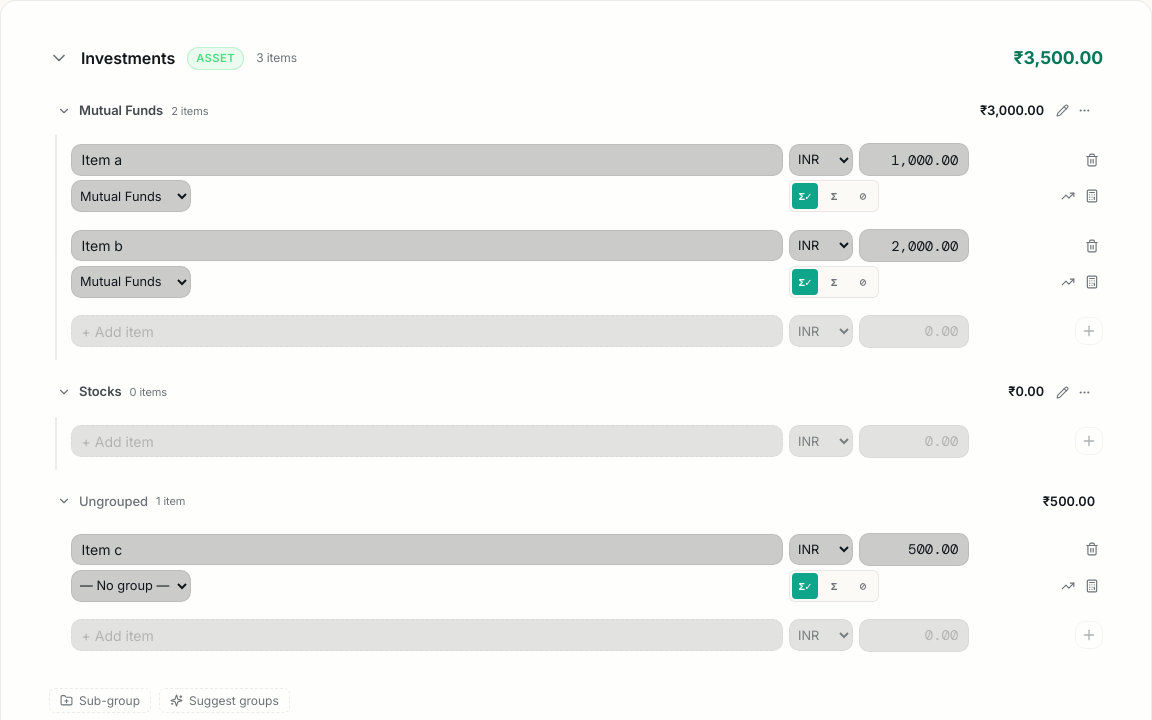
Test: CategorySection with sub-categories › re-expands a collapsed group
The width and height of the screenshot is (1152, 720).
Click the button named "Collapse Mutual Funds" at (64, 111), box [57,104,71,118]
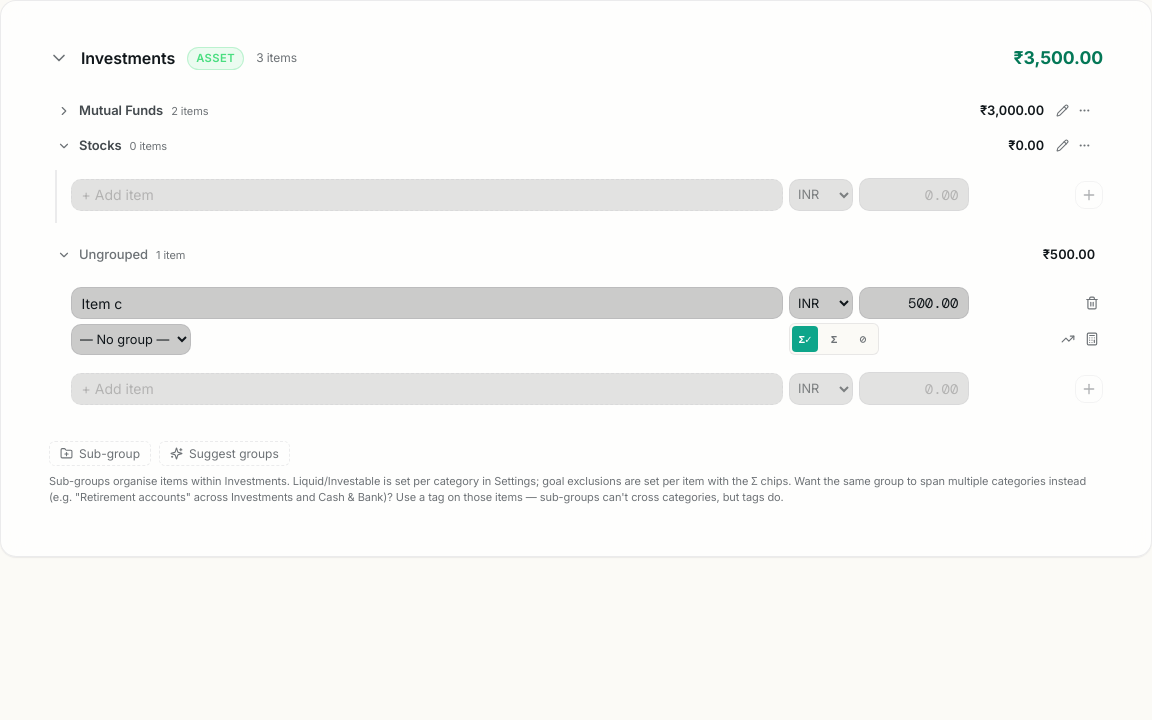
Click the button named "Expand Mutual Funds" at (64, 111), box [57,104,71,118]
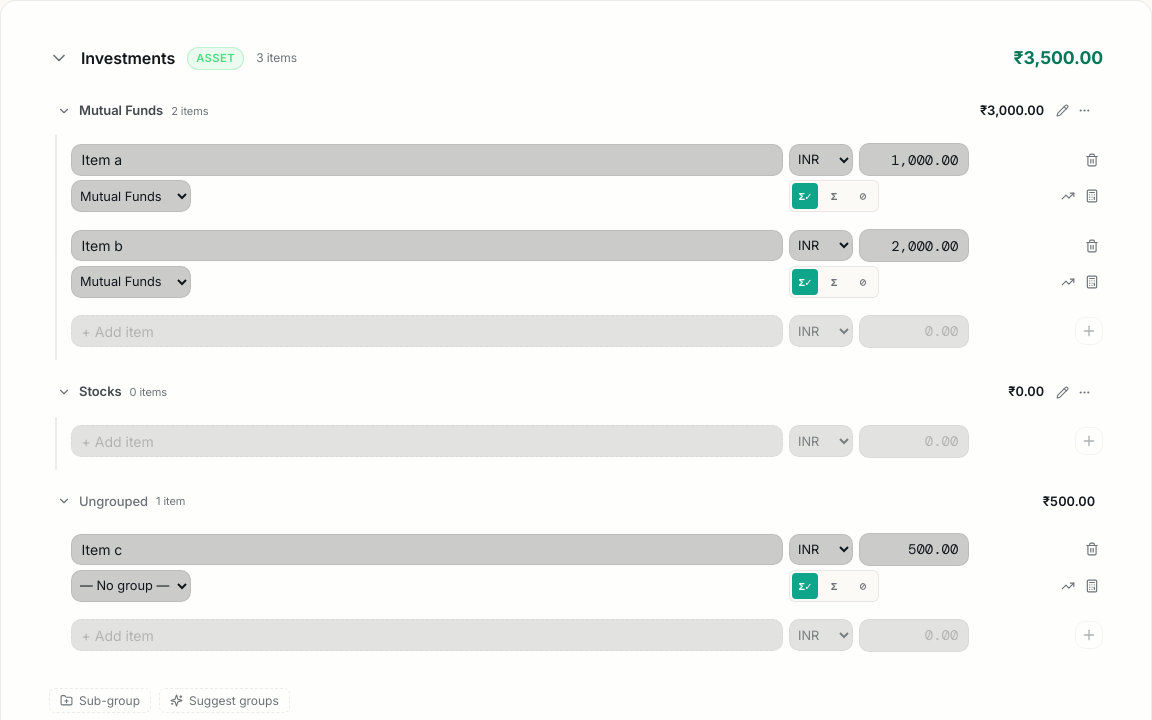
expect the field named "New item name in Mutual Funds" is shown: met, box [71,316,783,347]
